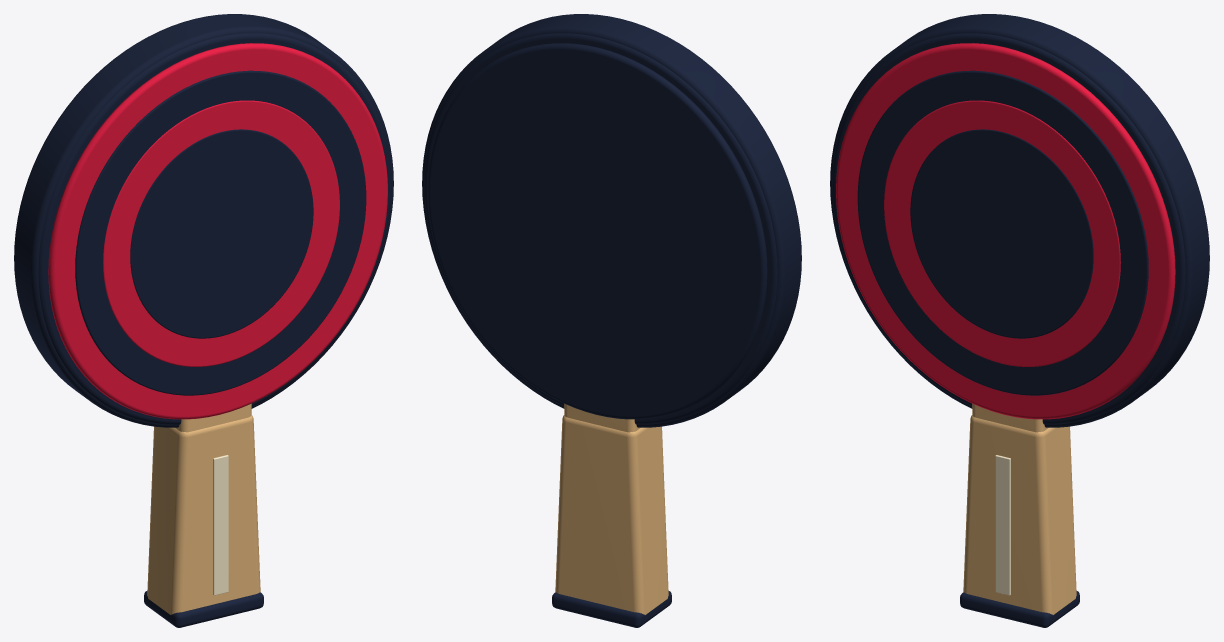
The model's file is SpinMaster.fbx.
3 renders of one model, left to right at view 1: azimuth 30°, elevation 25°; view 2: azimuth 150°, elevation 25°; view 3: azimuth 330°, elevation 25°, orthographic.
Visible parts, largest first — view 1: SpinGroove2, FrontRubber, SpinGroove0, SpinGroove1, WoodHandle, OuterRim, RimLip, HandleInlay, HandleButt, Neck; view 2: BackRubber, WoodHandle, OuterRim, RimLip, HandleButt, Neck; view 3: SpinGroove2, FrontRubber, SpinGroove0, SpinGroove1, WoodHandle, OuterRim, RimLip, HandleInlay, HandleButt, Neck.
Part boxes in pixels (box(x1,y1,x2,y2)): SpinGroove2: box(130, 129, 313, 338); FrontRubber: box(48, 43, 387, 419); SpinGroove0: box(75, 70, 366, 395); SpinGroove1: box(103, 100, 339, 366); WoodHandle: box(147, 415, 260, 614); OuterRim: box(14, 14, 393, 427); RimLip: box(38, 33, 391, 424); HandleInlay: box(213, 455, 228, 595); HandleButt: box(144, 591, 263, 627); Neck: box(175, 403, 251, 432); BackRubber: box(428, 43, 767, 419); WoodHandle: box(555, 415, 668, 614); OuterRim: box(422, 14, 801, 427); RimLip: box(424, 33, 777, 424); HandleButt: box(552, 591, 671, 627); Neck: box(564, 403, 640, 432); SpinGroove2: box(910, 129, 1093, 338); FrontRubber: box(836, 43, 1175, 419); SpinGroove0: box(857, 70, 1148, 395); SpinGroove1: box(884, 100, 1120, 366); WoodHandle: box(963, 415, 1076, 614); OuterRim: box(830, 14, 1209, 427); RimLip: box(832, 33, 1185, 424); HandleInlay: box(995, 455, 1010, 595); HandleButt: box(960, 591, 1079, 627); Neck: box(972, 403, 1048, 432).
Size of the model in its own units: 61 by 93.65 by 10.43.
